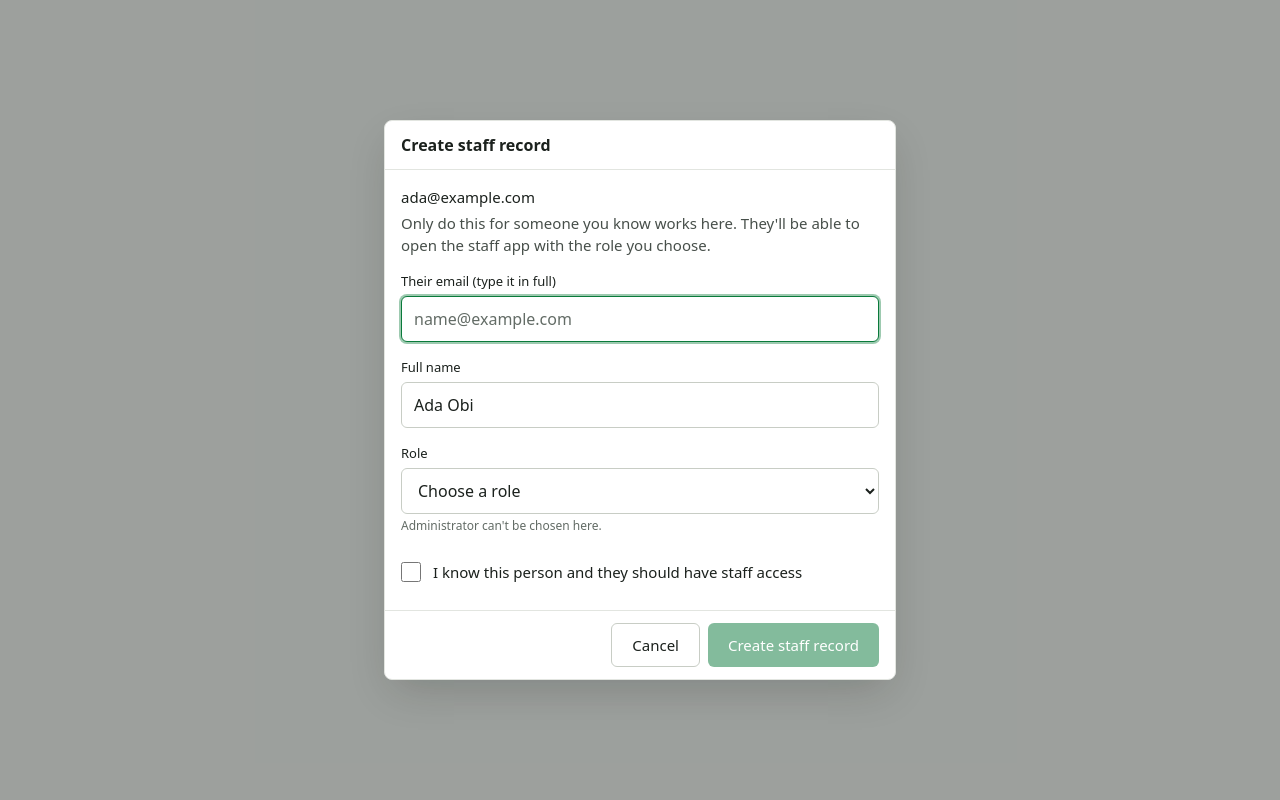
Scenario: CreateStaffRecordDialog › asks to check the list after a lost reply, and refreshes it on close
Later steps or results of the test are not shown.
Type "ada@example.com" into the field labelled "Their email (type it in full)".
click(640, 319); type("ada@example.com")  # box x1=401 y1=296 x2=879 y2=342
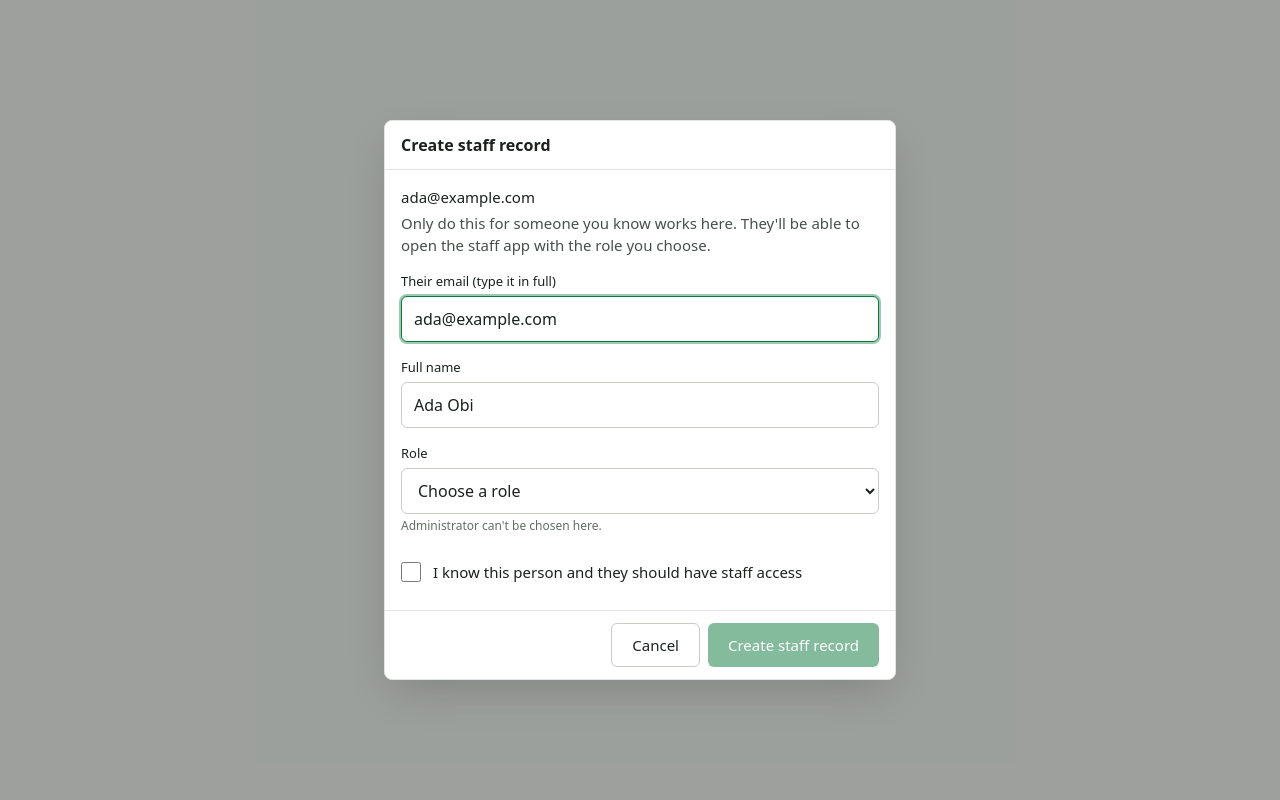
Select "Nurse" in the dropdown labelled "Role" at {"x": 640, "y": 491}, box x1=401 y1=468 x2=879 y2=514
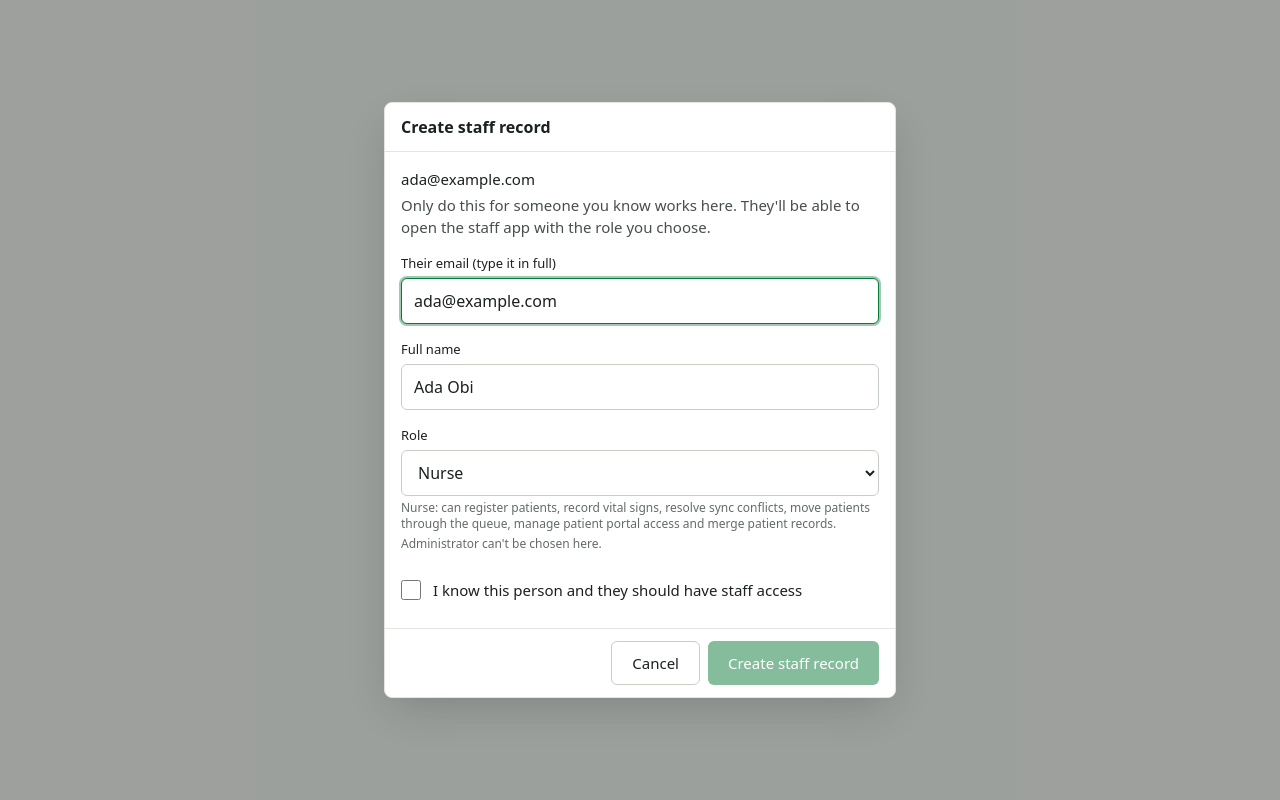
Click the checkbox labelled "I know this person and they should have staff access".
click(411, 590)  # box x1=401 y1=580 x2=421 y2=600
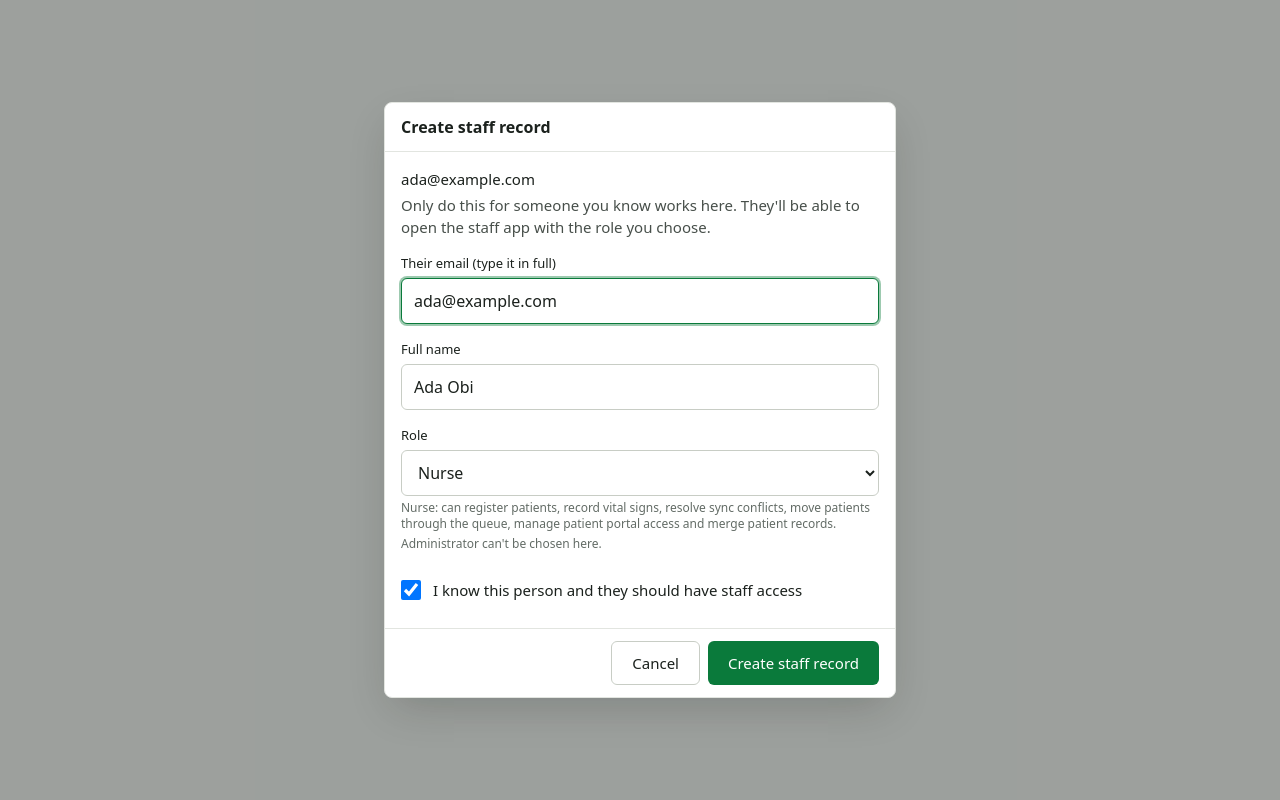
Click the button "Create staff record".
click(794, 663)  # box x1=708 y1=641 x2=879 y2=685
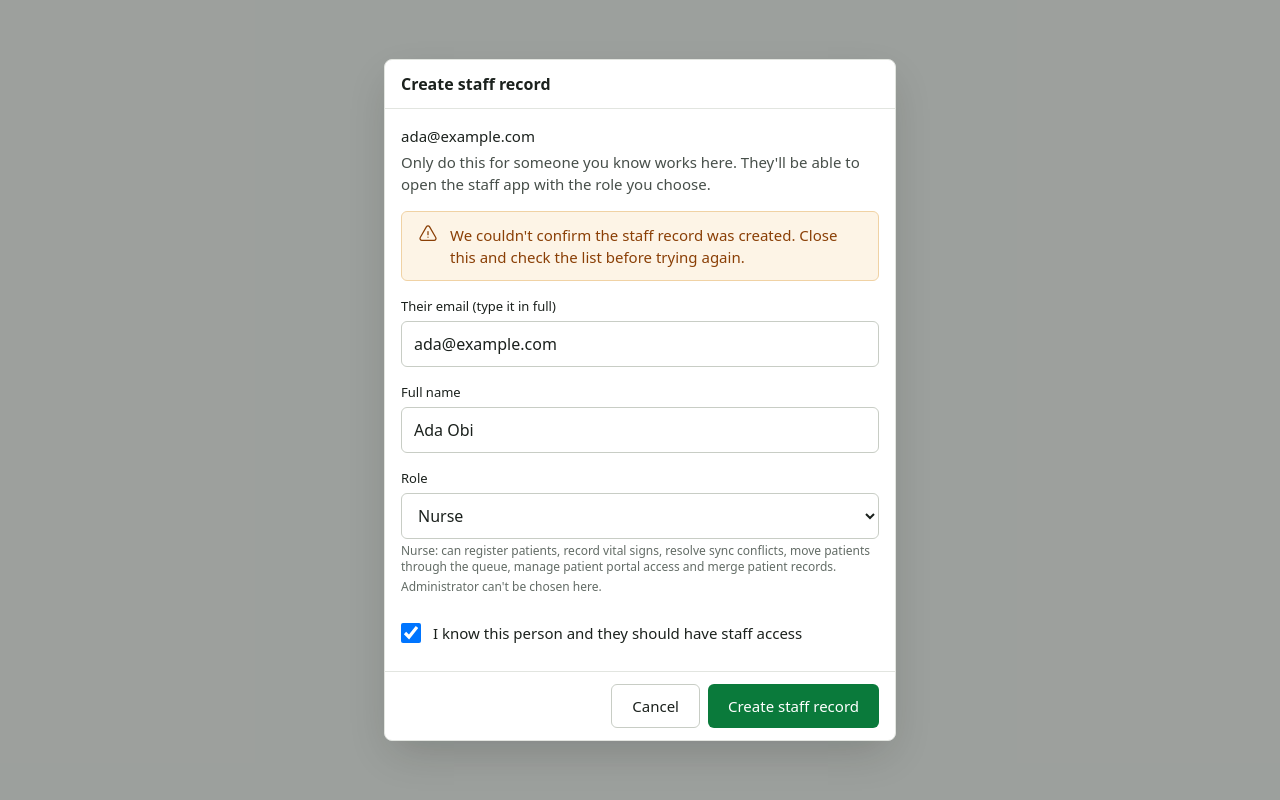
Now the text "We couldn't confirm the staff record was created. Close this and check the list before trying again." is shown, box x1=450 y1=225 x2=838 y2=267
